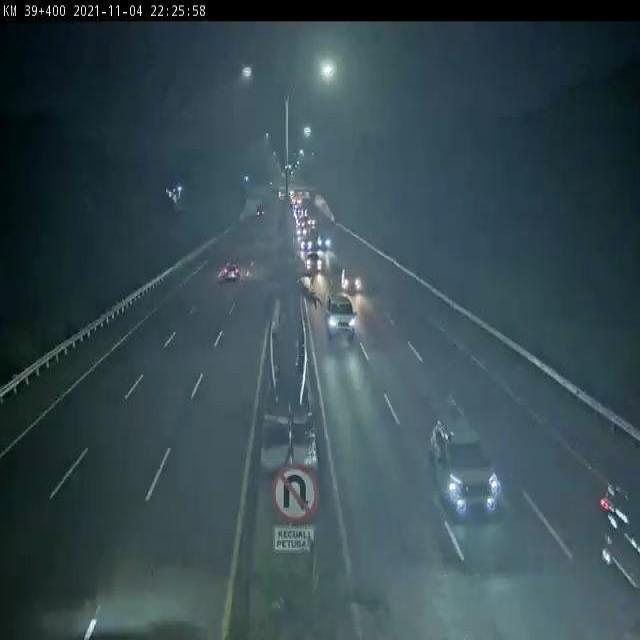car: (579, 453, 640, 603), (434, 417, 503, 520), (329, 294, 355, 342), (343, 266, 360, 290), (307, 254, 324, 274), (223, 264, 240, 280), (317, 232, 331, 248), (301, 238, 313, 250), (306, 216, 316, 225), (298, 227, 307, 236)
